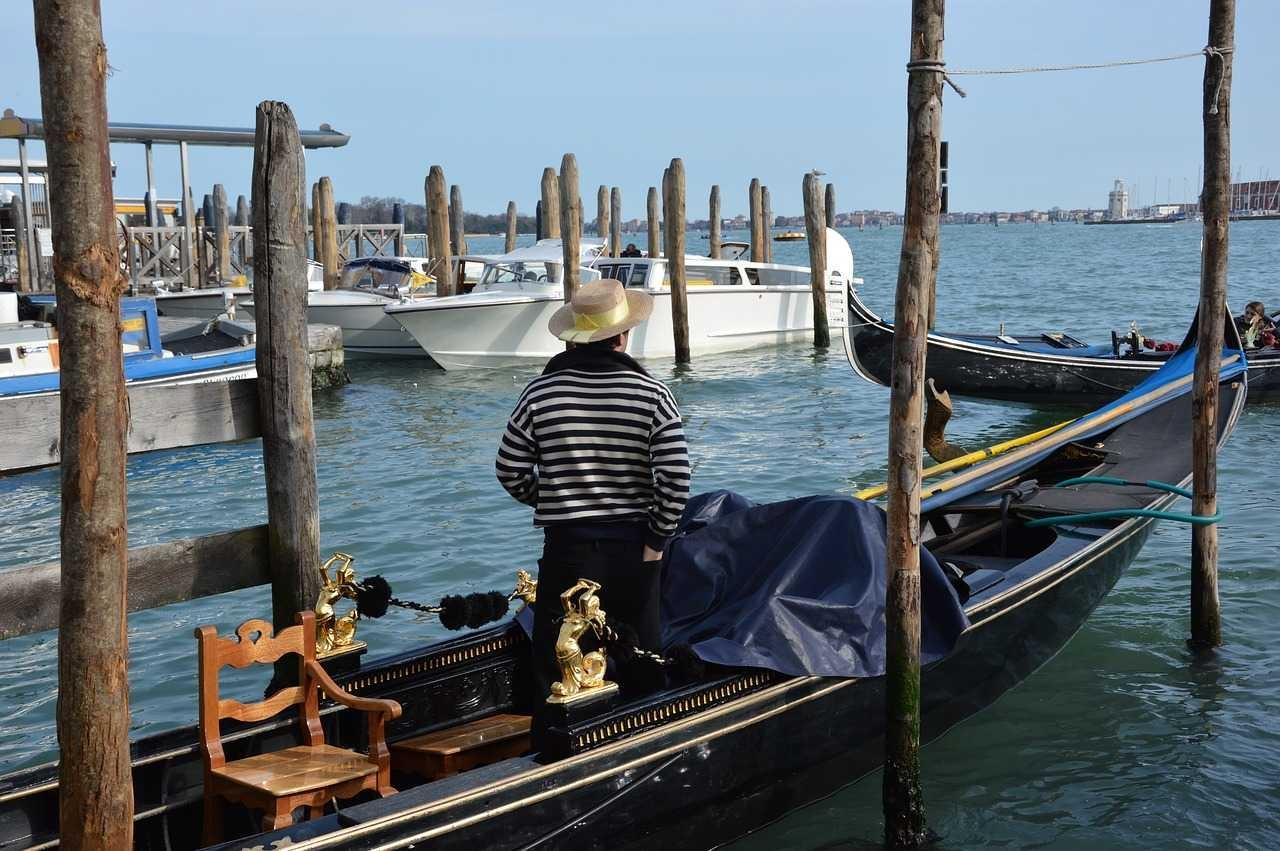kayak: (188, 330, 1257, 843), (384, 240, 855, 371), (844, 277, 1242, 403), (0, 293, 280, 471), (384, 237, 599, 373), (601, 256, 846, 358), (306, 267, 430, 356), (1245, 347, 1280, 392)
